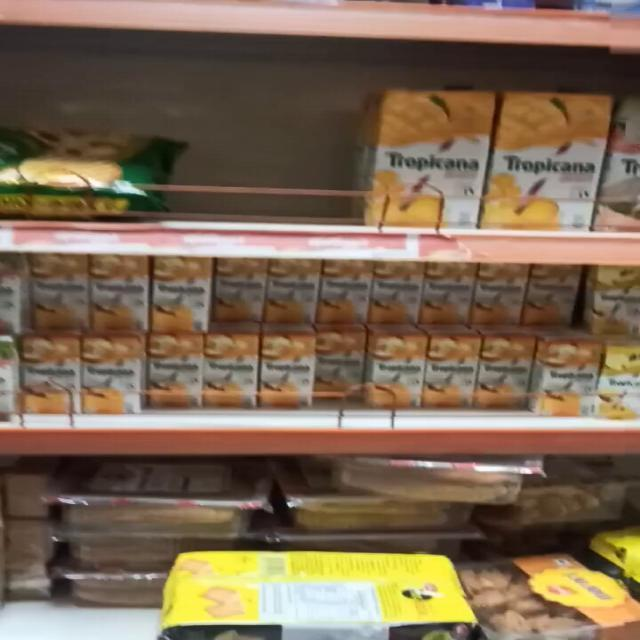Tropicana: (348, 80, 493, 228), (492, 79, 604, 233), (14, 336, 82, 424), (26, 256, 94, 332), (82, 252, 146, 332), (146, 256, 214, 330), (145, 331, 206, 411), (476, 334, 536, 411), (258, 333, 314, 411), (368, 260, 428, 332), (368, 338, 426, 410), (308, 326, 365, 398), (84, 338, 142, 408), (214, 258, 272, 326), (204, 328, 254, 405), (518, 262, 576, 328), (422, 338, 476, 408), (542, 341, 596, 408), (416, 260, 468, 326), (474, 260, 520, 332), (266, 260, 318, 322), (318, 262, 368, 324)
